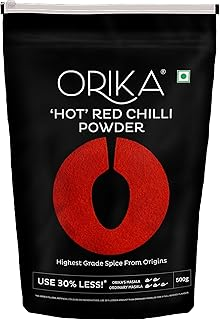Chilli Powder: (3, 4, 207, 320)
